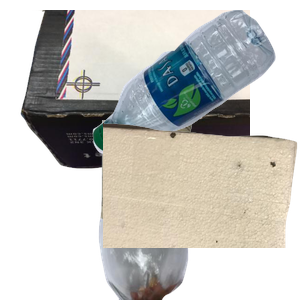cardboard: (18, 10, 258, 171)
glass: (96, 120, 283, 300)
plastic: (90, 10, 300, 156)
trash: (103, 120, 300, 300)
